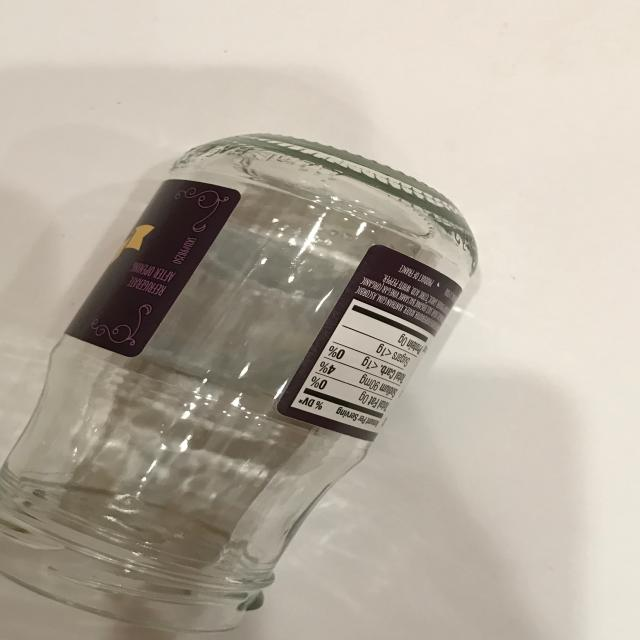glass: (0, 130, 479, 633)
